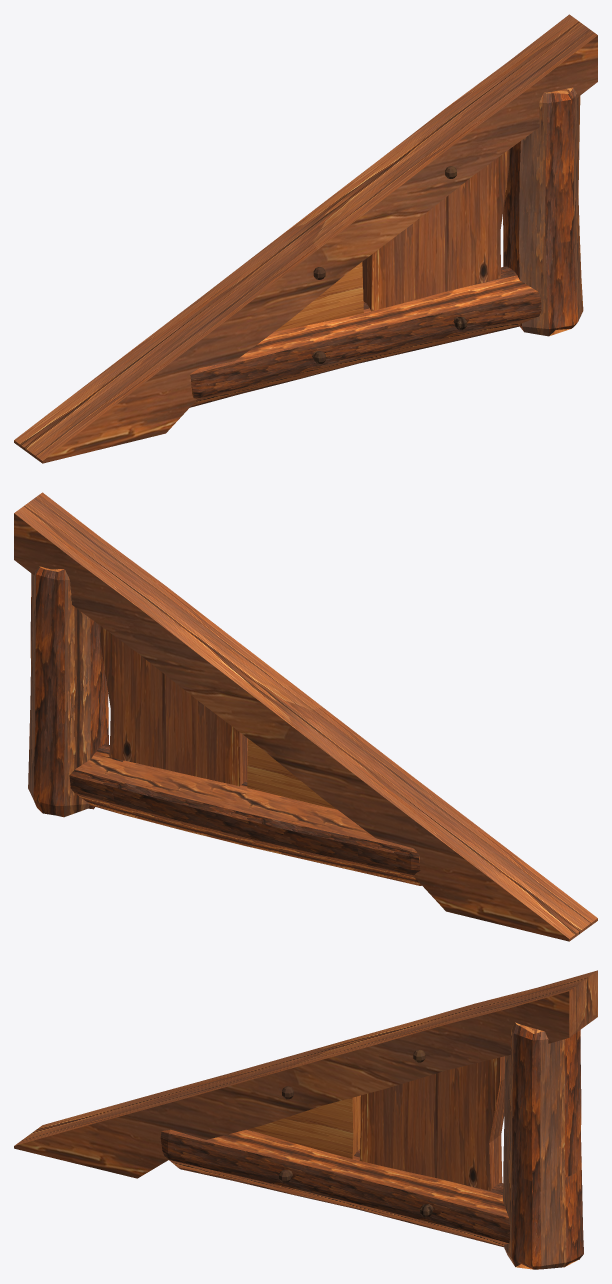
File: gable_26__plank_root.glb
3 renders of one model, top to bottom at view 1: azimuth 30°, elevation 25°; view 2: azimuth 150°, elevation 25°; view 3: azimuth 330°, elevation 25°, orthographic.
Visible parts, largest first — view 1: model; view 2: model; view 3: model.
Part boxes in pixels (x1,y1,x2,y2): model: (14,14,597,463); model: (14,492,597,941); model: (14,970,597,1269).
Size of the model in its own units: 1.91 by 0.9624 by 0.2416.
10 materials, 10 textured.
